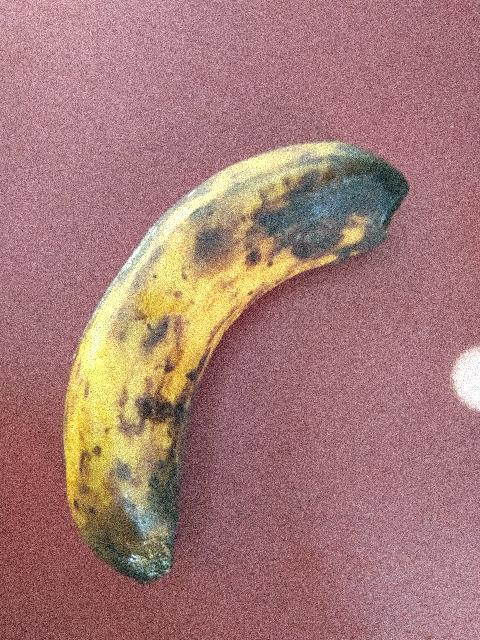rotten: (33, 123, 420, 585)
